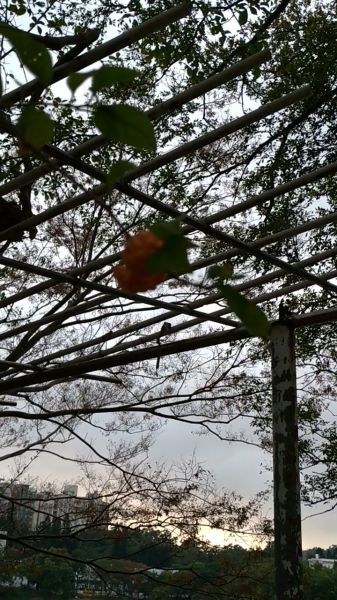eggs: (106, 228, 175, 296)
